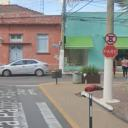Pare: (102, 46, 119, 58)
